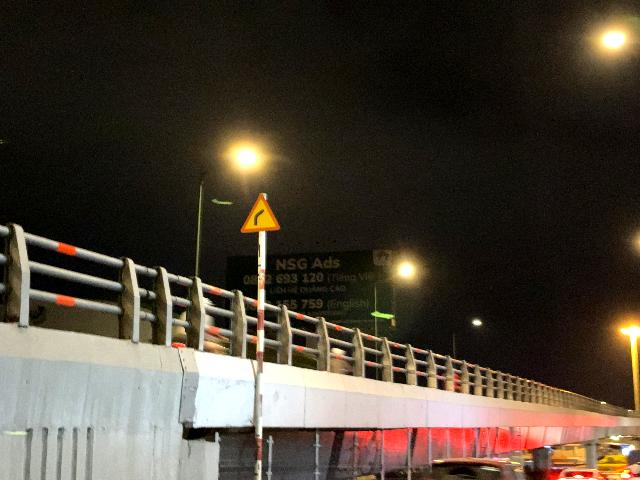cho-ngoat-nguy-hiem-ben-phai: (240, 193, 280, 233)
